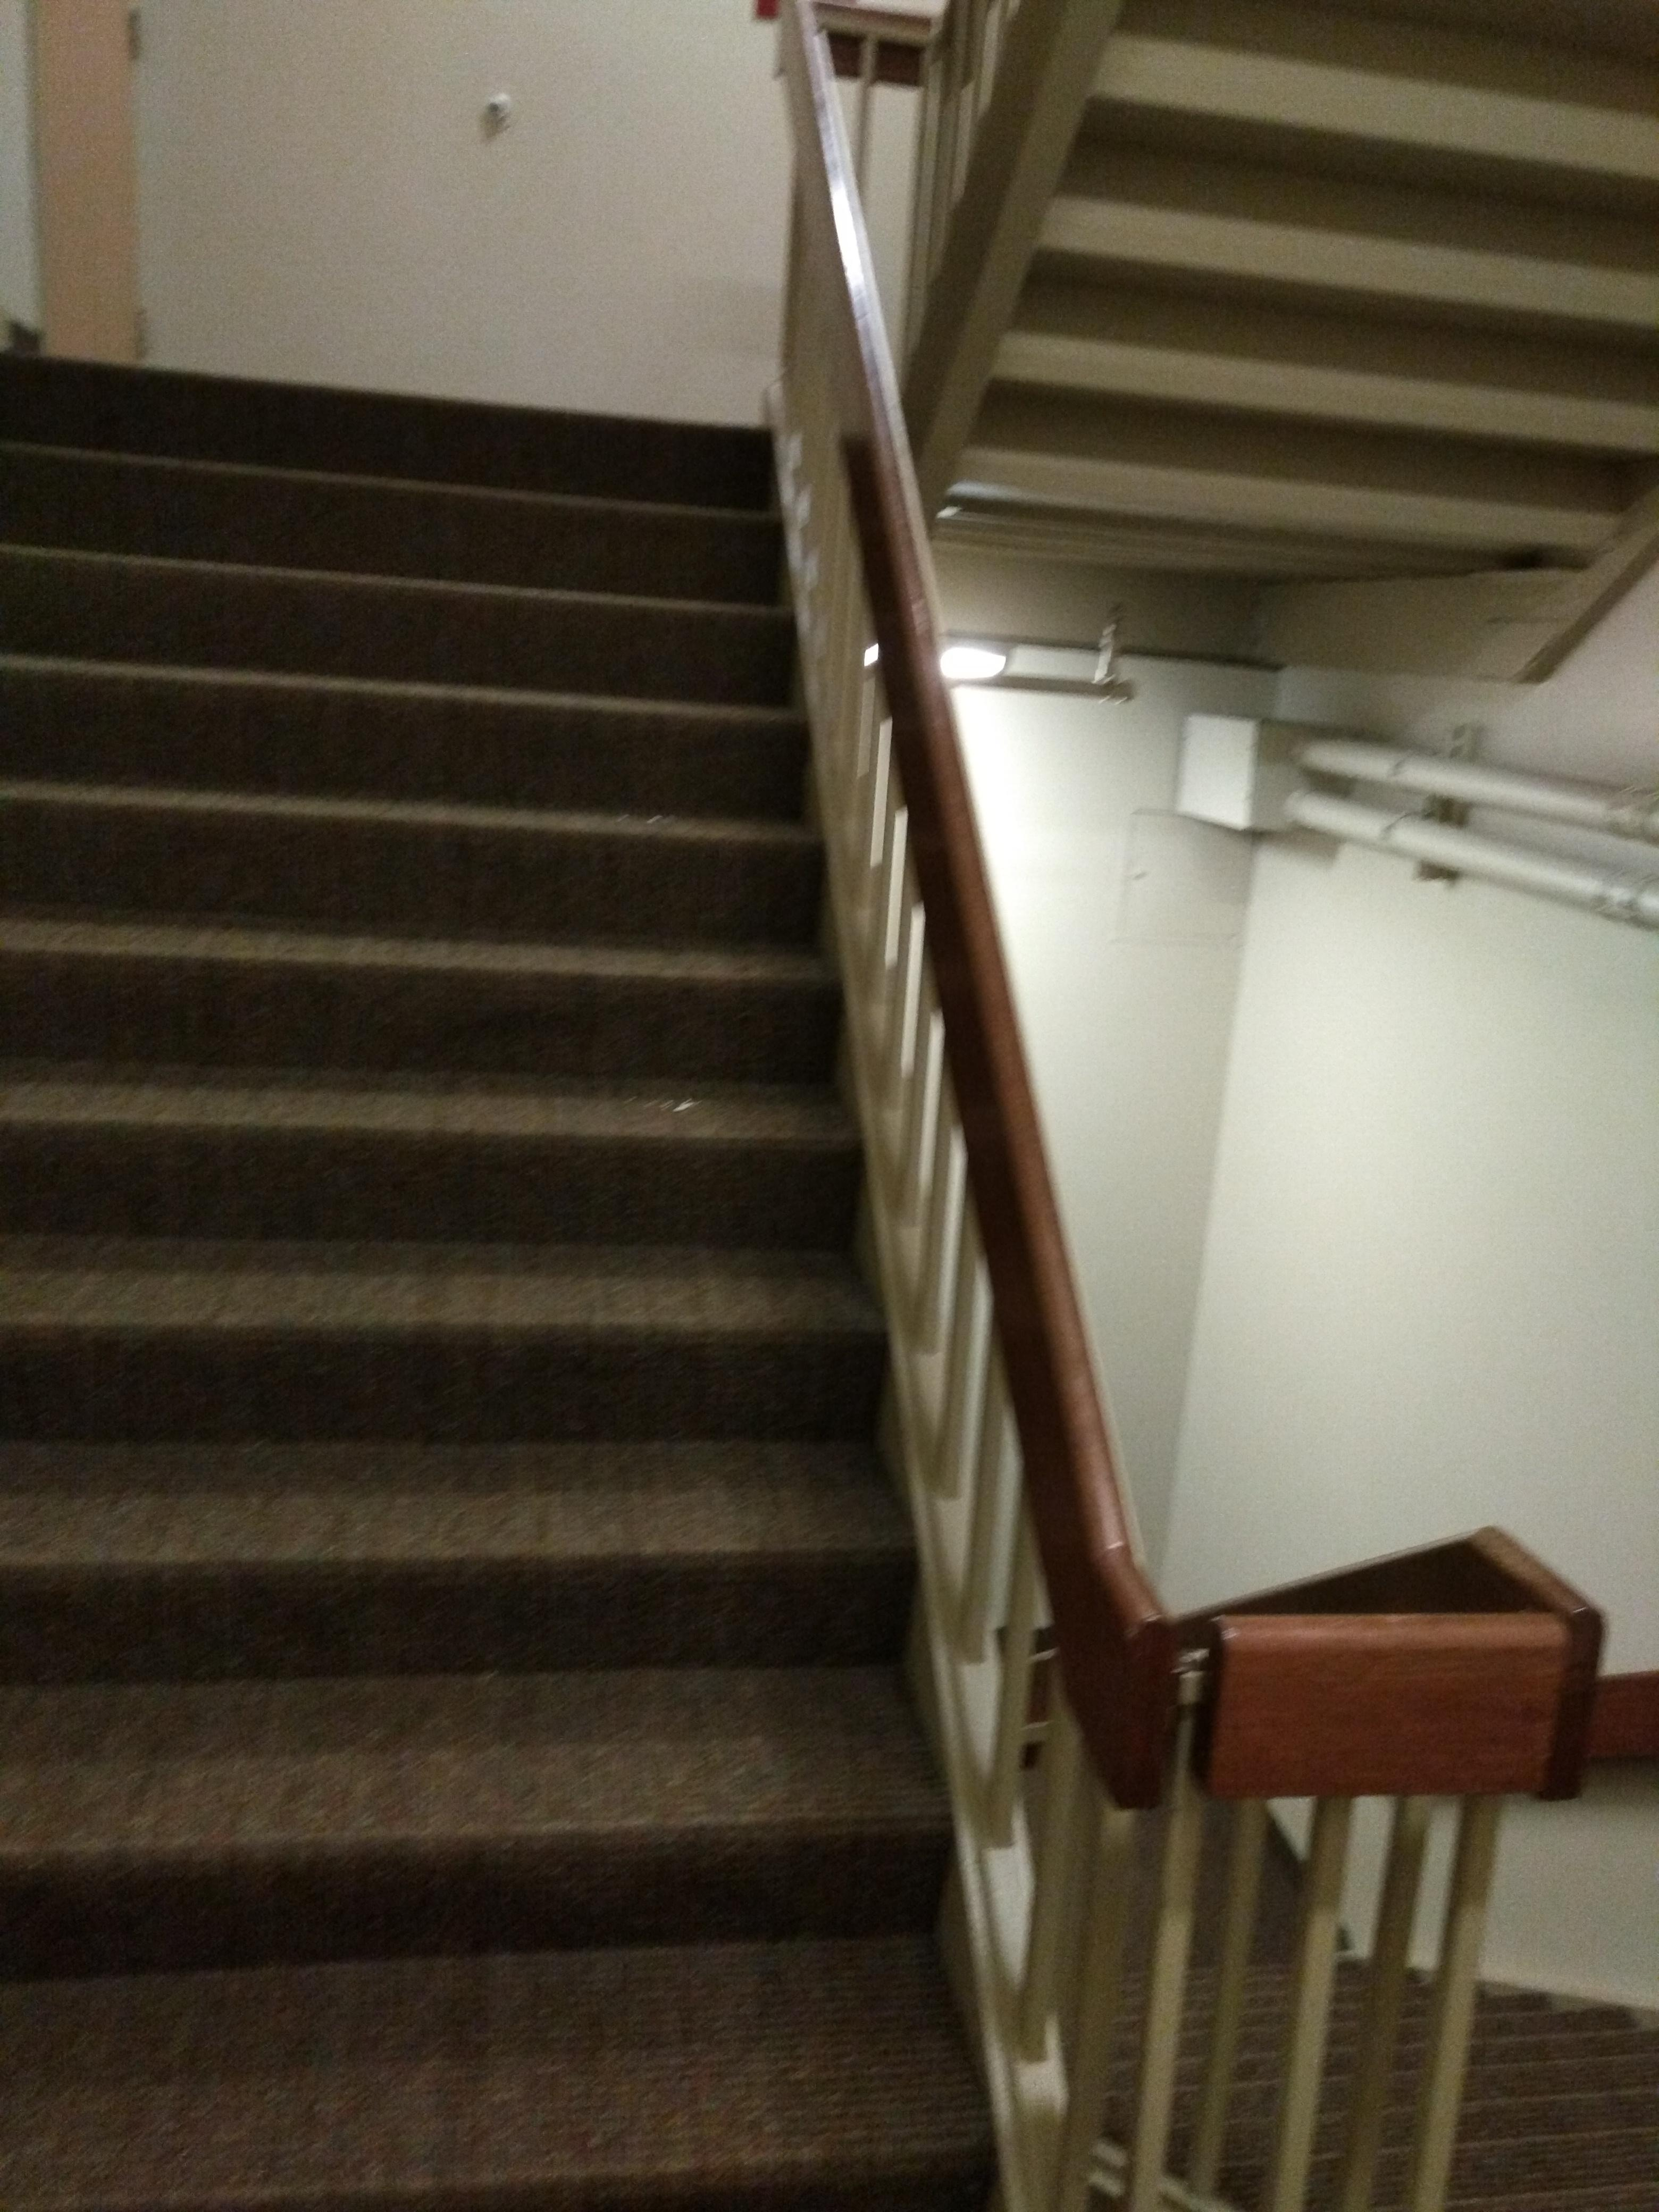stairs_down: (1072, 1907, 1649, 2212)
stairs_up: (9, 341, 993, 2207)
